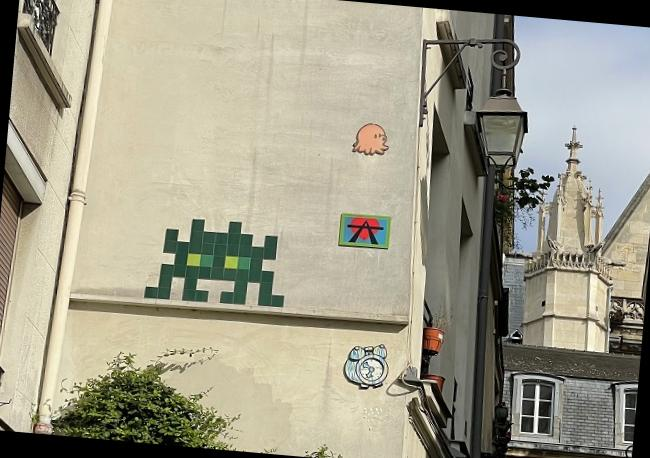graffiti: (144, 219, 284, 307), (343, 344, 389, 388), (345, 216, 389, 248), (353, 124, 387, 154)
